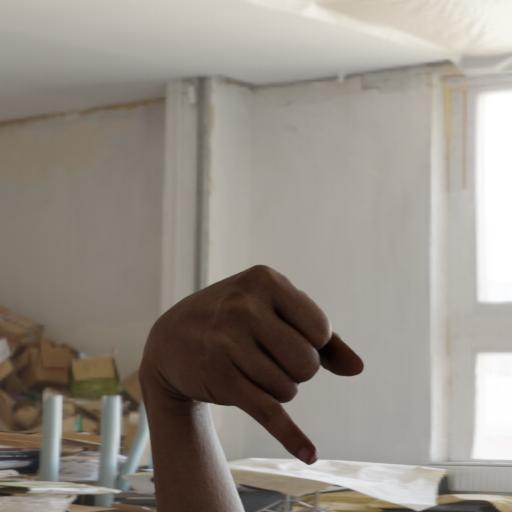E: (129, 247, 378, 479)
